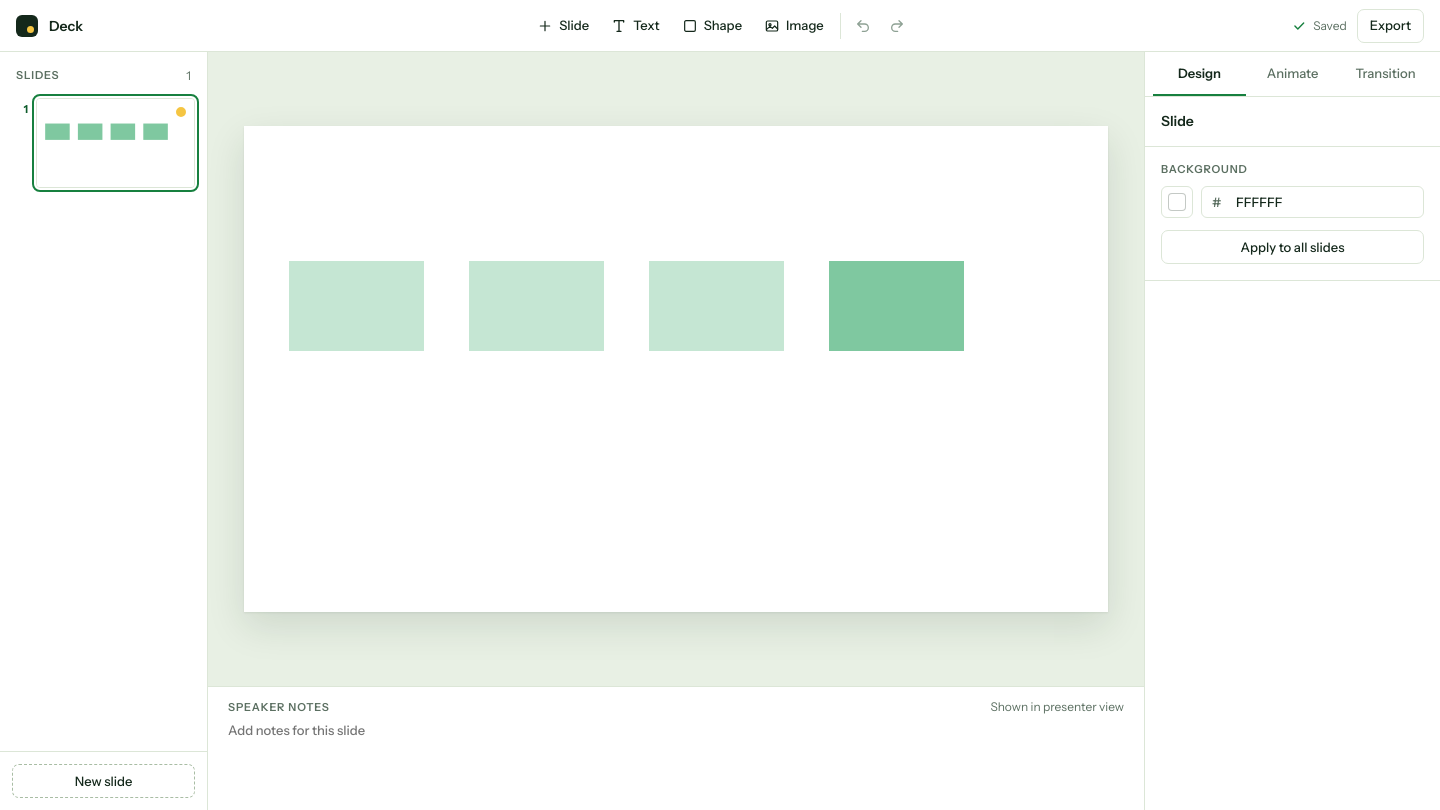
Scenario: Given steps for three clicks, When the Animate tab is opened, Then they are listed in play order under "Click n" headings, each with its element and effect
The width and height of the screenshot is (1440, 810).
expect the option named "Slide 1" is shown: met, box x1=12 y1=98 x2=195 y2=188
Click the tab "Animate" at (1292, 74), box x1=1246 y1=52 x2=1339 y2=96
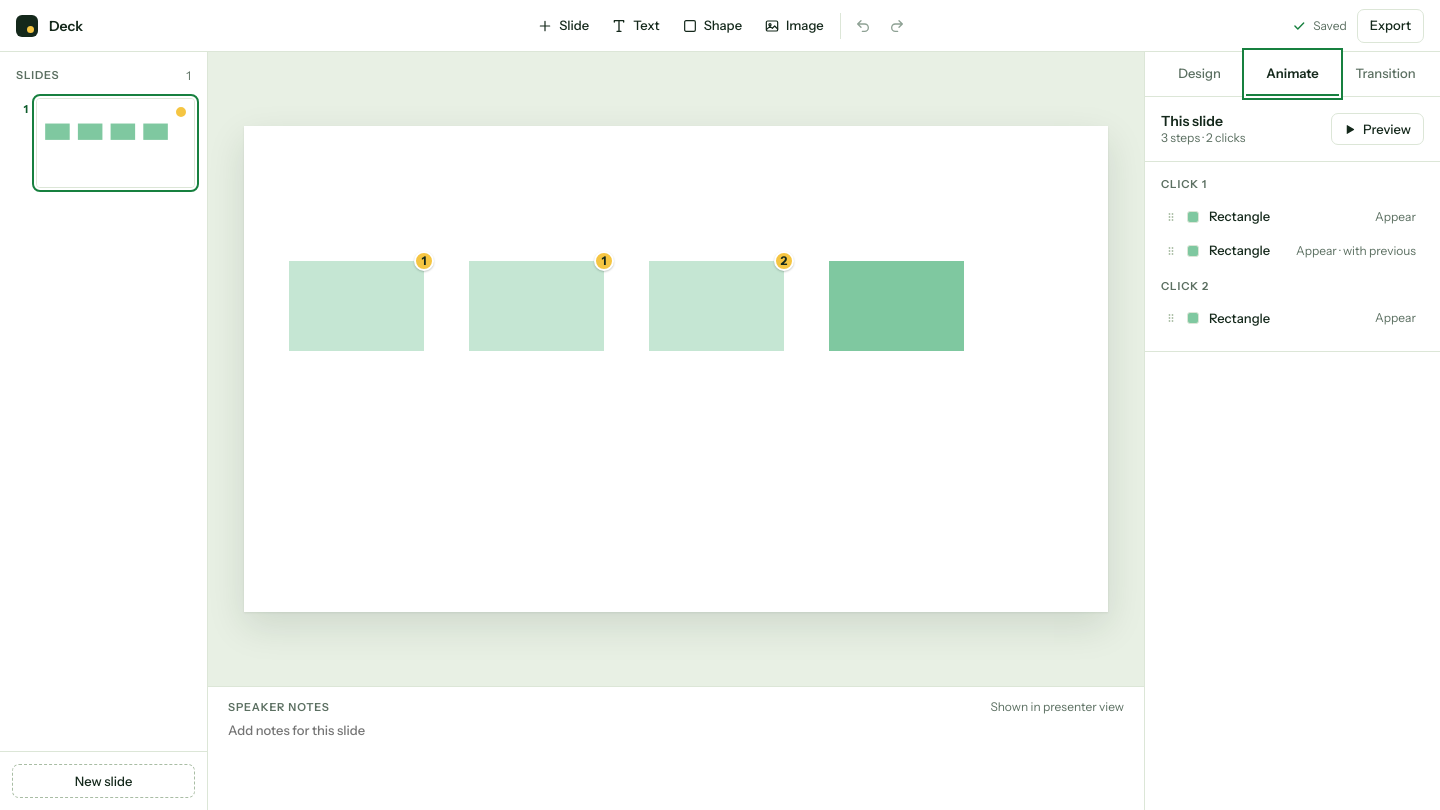
expect the text "3 steps · 2 clicks" is shown: met, box x1=1161 y1=130 x2=1246 y2=145
expect the button with aria-label "Rectangle, Appear, with previous" is shown: met, box x1=1161 y1=234 x2=1424 y2=268
